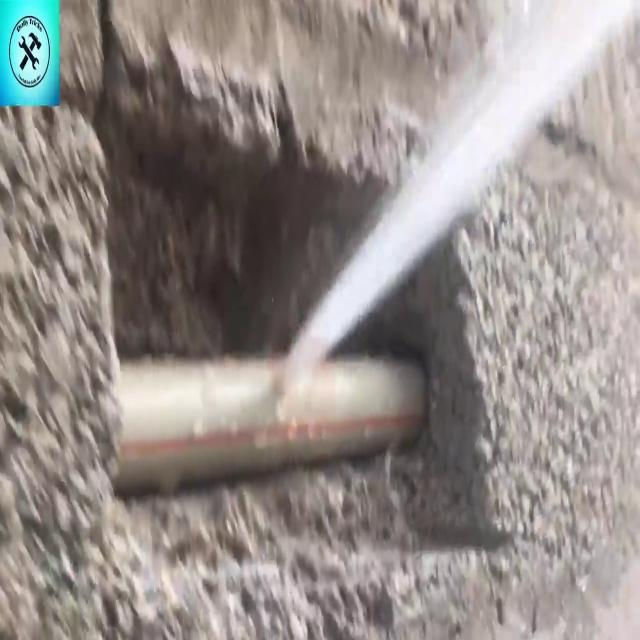leak: (279, 0, 640, 392)
